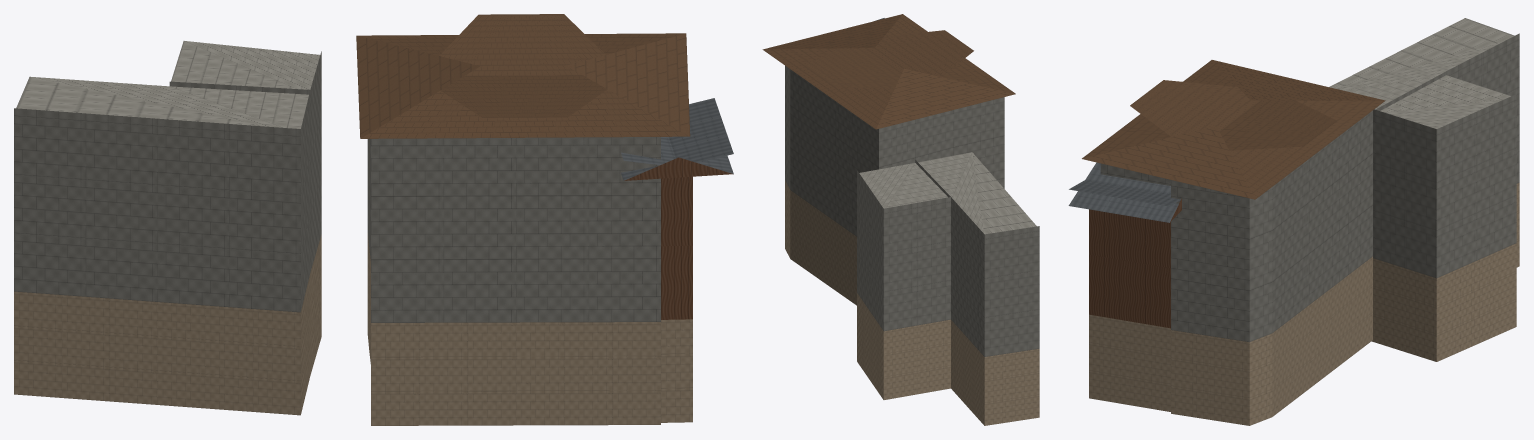
The model's file is bld_c43_31_272.gltf.
3 views of the same model, side by side, from view 1: azimuth 30°, elevation 25°; view 2: azimuth 150°, elevation 25°; view 3: azimuth 270°, elevation 25° (orthographic). The views are drawn at different scales.
Parts seen in each view (by area): view 1: bld_c43_31_272; view 2: bld_c43_31_272; view 3: bld_c43_31_272.
Part boxes in pixels (x1,y1,x2,y2): bld_c43_31_272: (14,14,733,425); bld_c43_31_272: (762,14,1039,425); bld_c43_31_272: (1068,18,1519,425).
Bounding box in the file's own units: 28.16 × 17 × 24.88.
8 materials, 8 textured.
